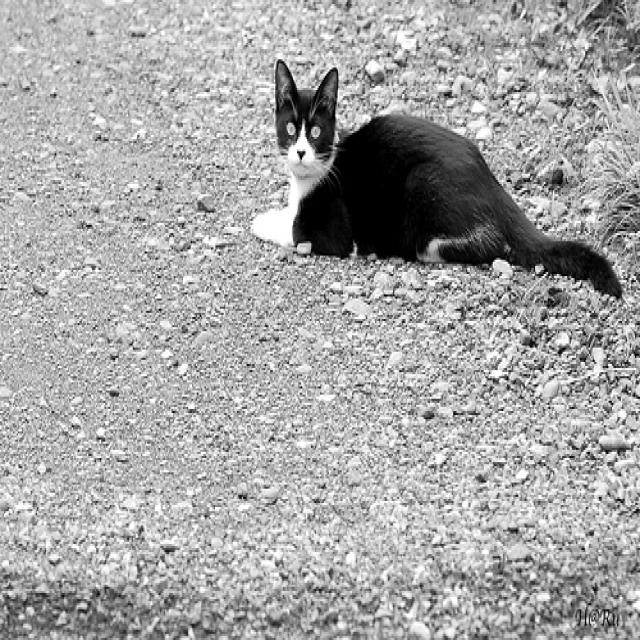left eye: (307, 121, 321, 139)
